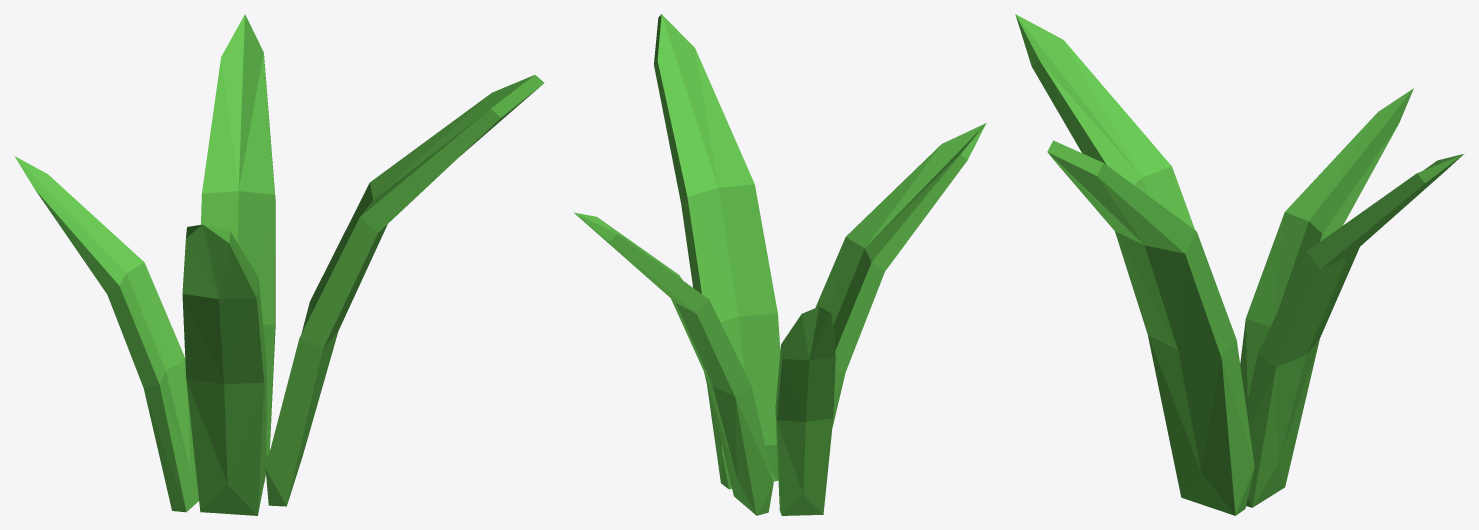
Rendered from Grass 03.fbx.
The picture shows the model from 3 angles, left to right: view 1: azimuth 30°, elevation 25°; view 2: azimuth 150°, elevation 25°; view 3: azimuth 270°, elevation 25°; orthographic projection. The views are drawn at different scales.
Parts seen in each view (by area): view 1: Grass 02; view 2: Grass 02; view 3: Grass 02.
Boxes of the visible parts, x1,y1,x2,y2 form: Grass 02: (14, 14, 544, 515); Grass 02: (573, 14, 986, 515); Grass 02: (1015, 14, 1464, 515).
Bounding box in the file's own units: 57.98 × 67.58 × 59.95.
